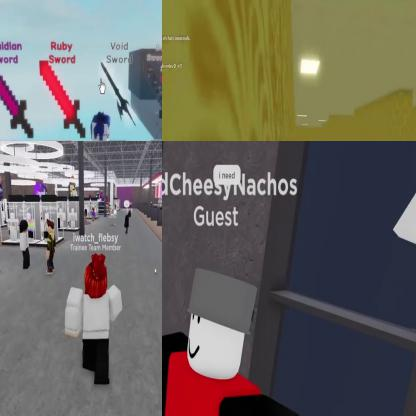Roblox-Avatar: (163, 267, 305, 416), (66, 254, 124, 387), (73, 112, 127, 141), (21, 220, 31, 271), (47, 219, 56, 275), (125, 210, 130, 236), (92, 208, 97, 224), (85, 209, 89, 225)
